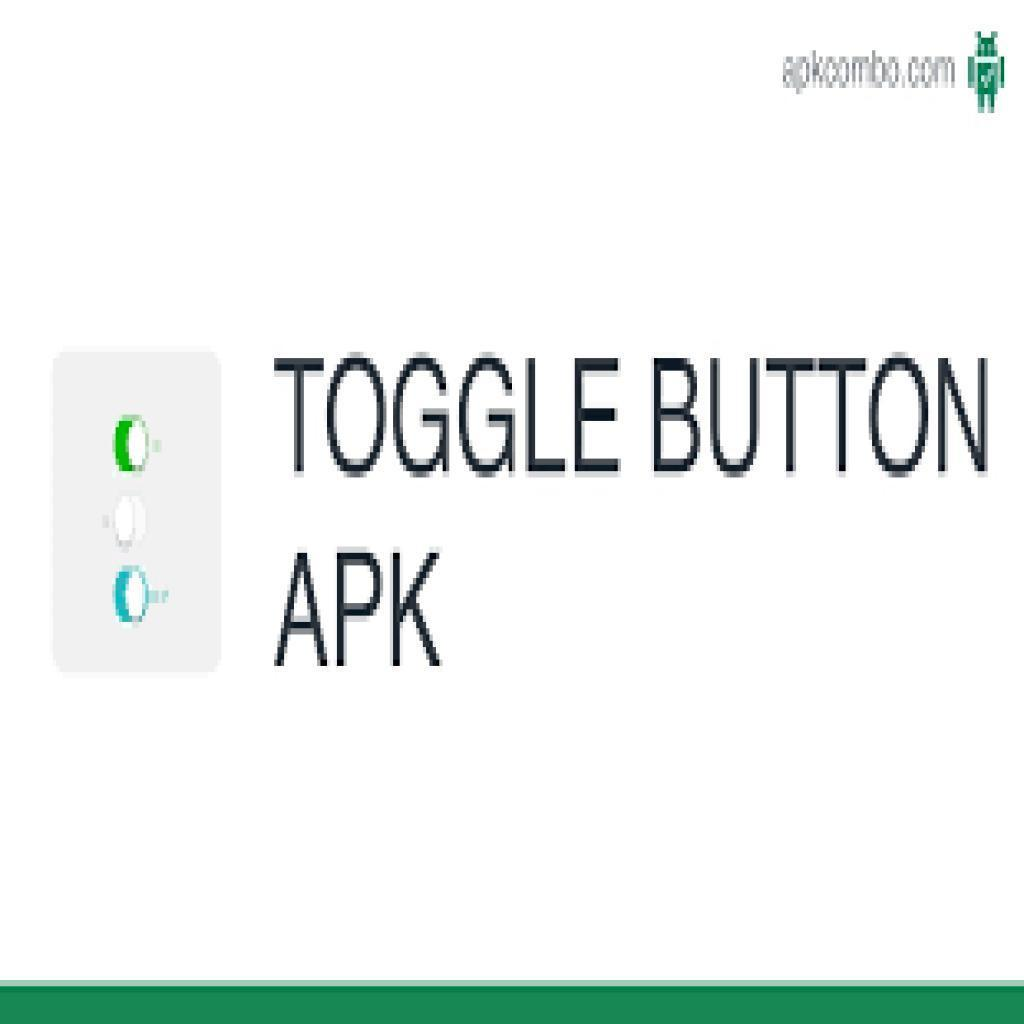switch: (114, 567, 152, 623), (115, 418, 150, 474), (112, 498, 152, 546)
